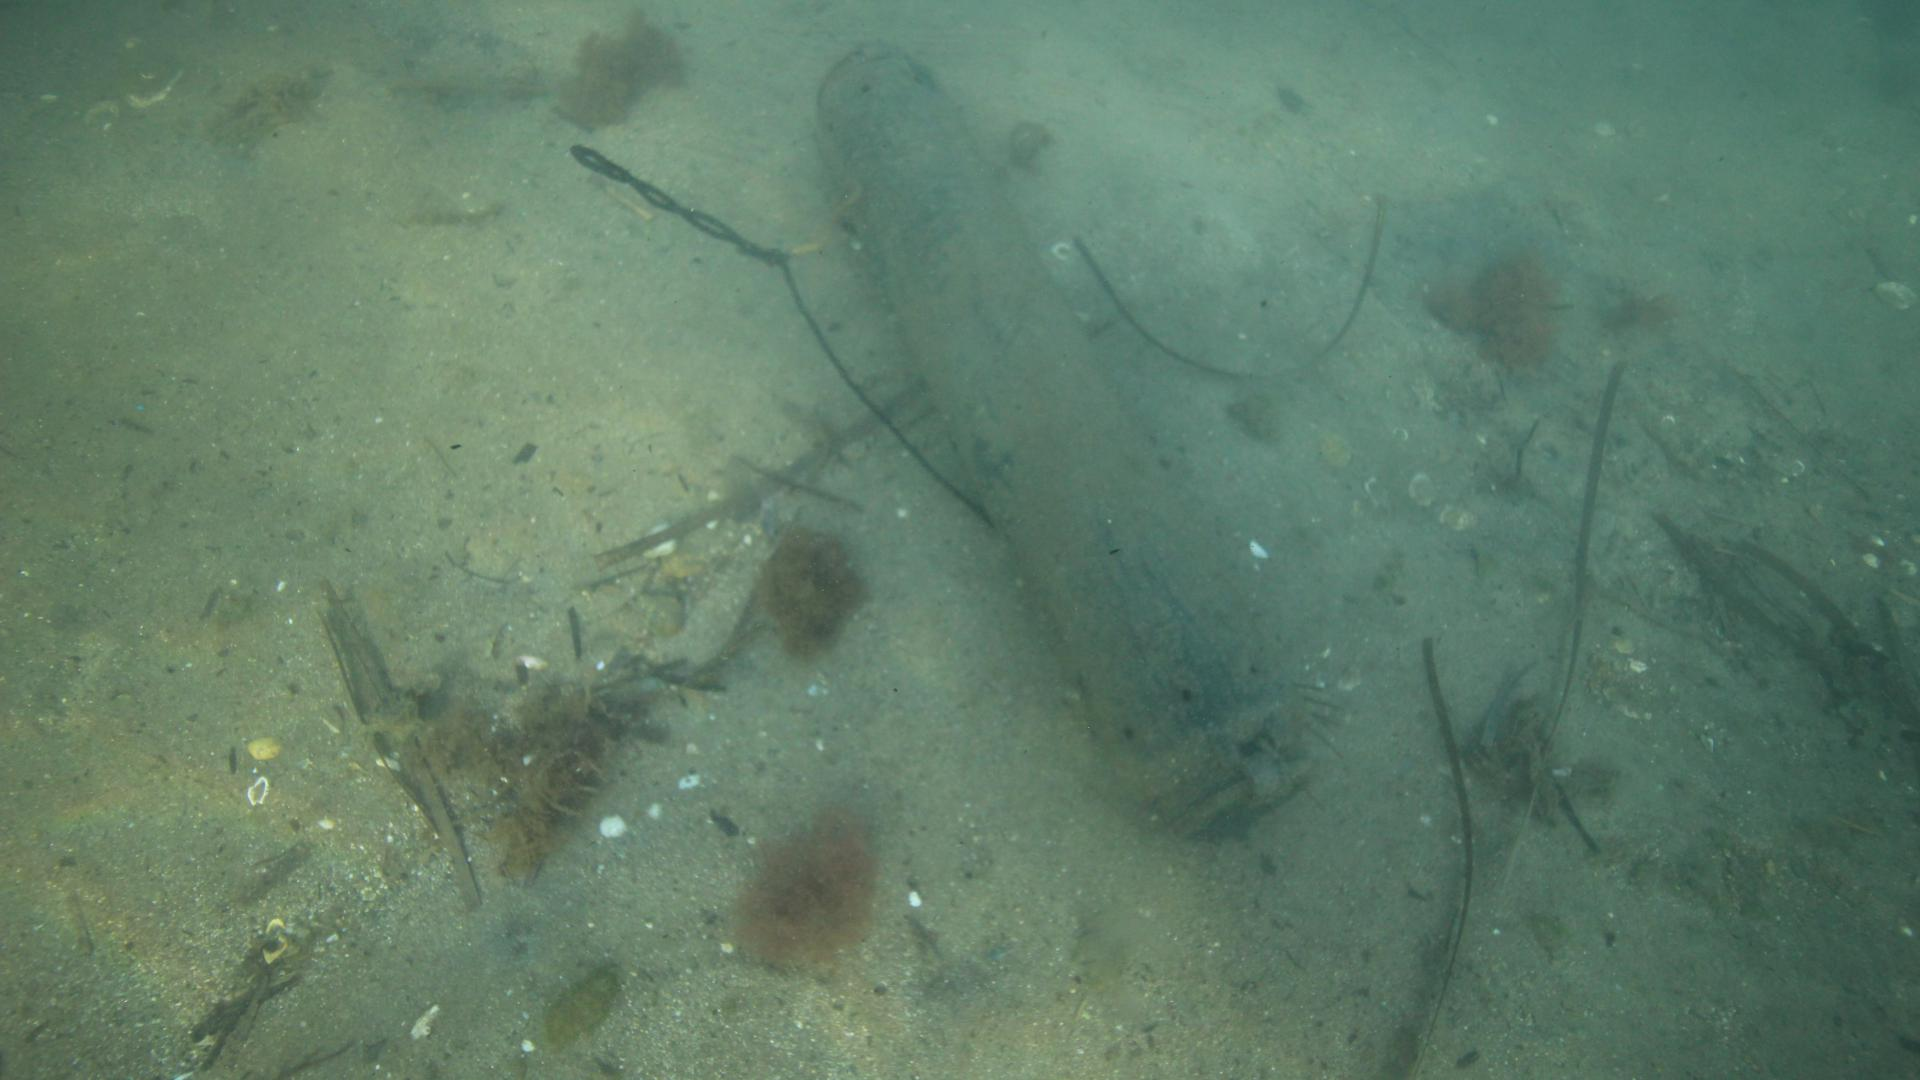eel fish trap: (814, 33, 1317, 851)
rope: (566, 140, 996, 531)
